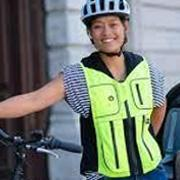Vest: (82, 55, 157, 175)
